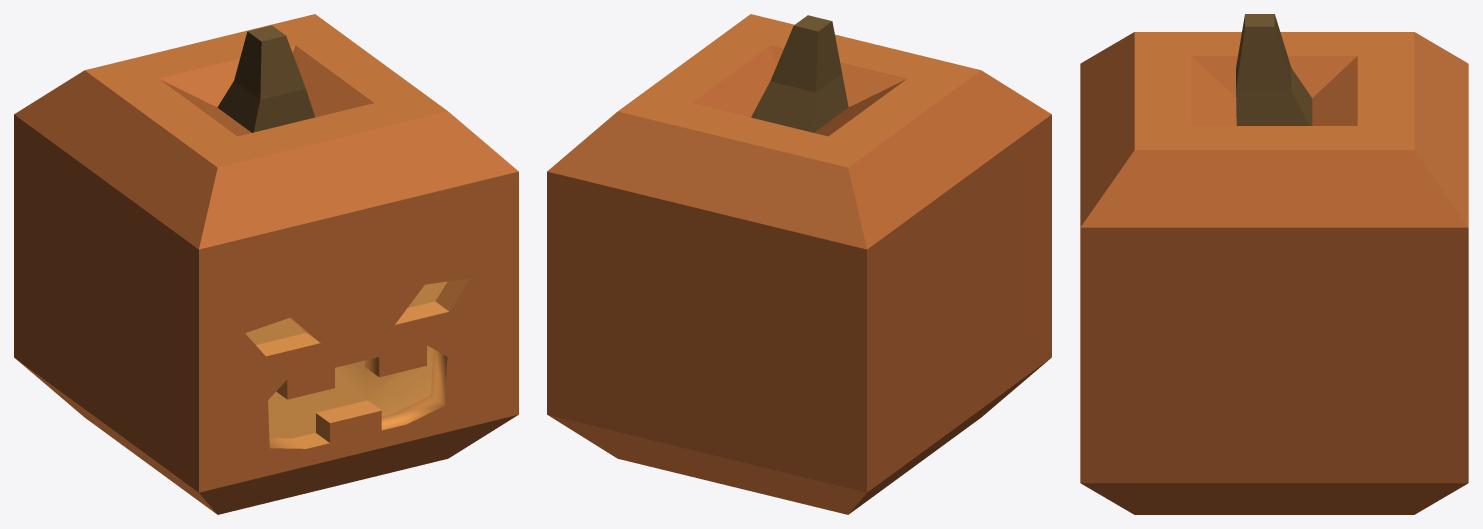
File: SC_Halloween_Pumpkin_04.fbx
3 renders of one model, left to right at view 1: azimuth 30°, elevation 25°; view 2: azimuth 150°, elevation 25°; view 3: azimuth 270°, elevation 25°, orthographic. The views are drawn at different scales.
Parts seen in each view (by area): view 1: SC_Halloween_Pumpkin_04; view 2: SC_Halloween_Pumpkin_04; view 3: SC_Halloween_Pumpkin_04.
Boxes of the visible parts, box(x1,y1,x2,y2) form: SC_Halloween_Pumpkin_04: box(14, 14, 518, 514); SC_Halloween_Pumpkin_04: box(547, 14, 1051, 514); SC_Halloween_Pumpkin_04: box(1080, 14, 1468, 514).
Bounding box in the file's own units: 1 × 1.23 × 1.
